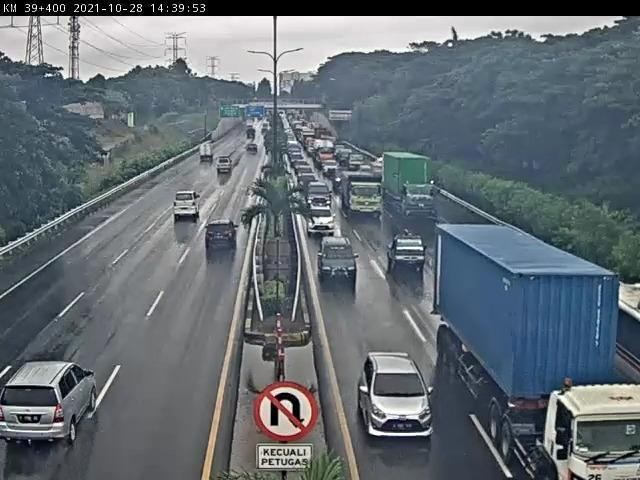car: (1, 360, 97, 444), (360, 352, 432, 439), (318, 239, 357, 280), (385, 234, 427, 270), (206, 221, 241, 251), (306, 203, 334, 232), (174, 193, 201, 222), (305, 180, 330, 203), (216, 157, 234, 177), (298, 174, 317, 189)
truck: (437, 226, 640, 480), (380, 154, 430, 213), (338, 172, 384, 216)
